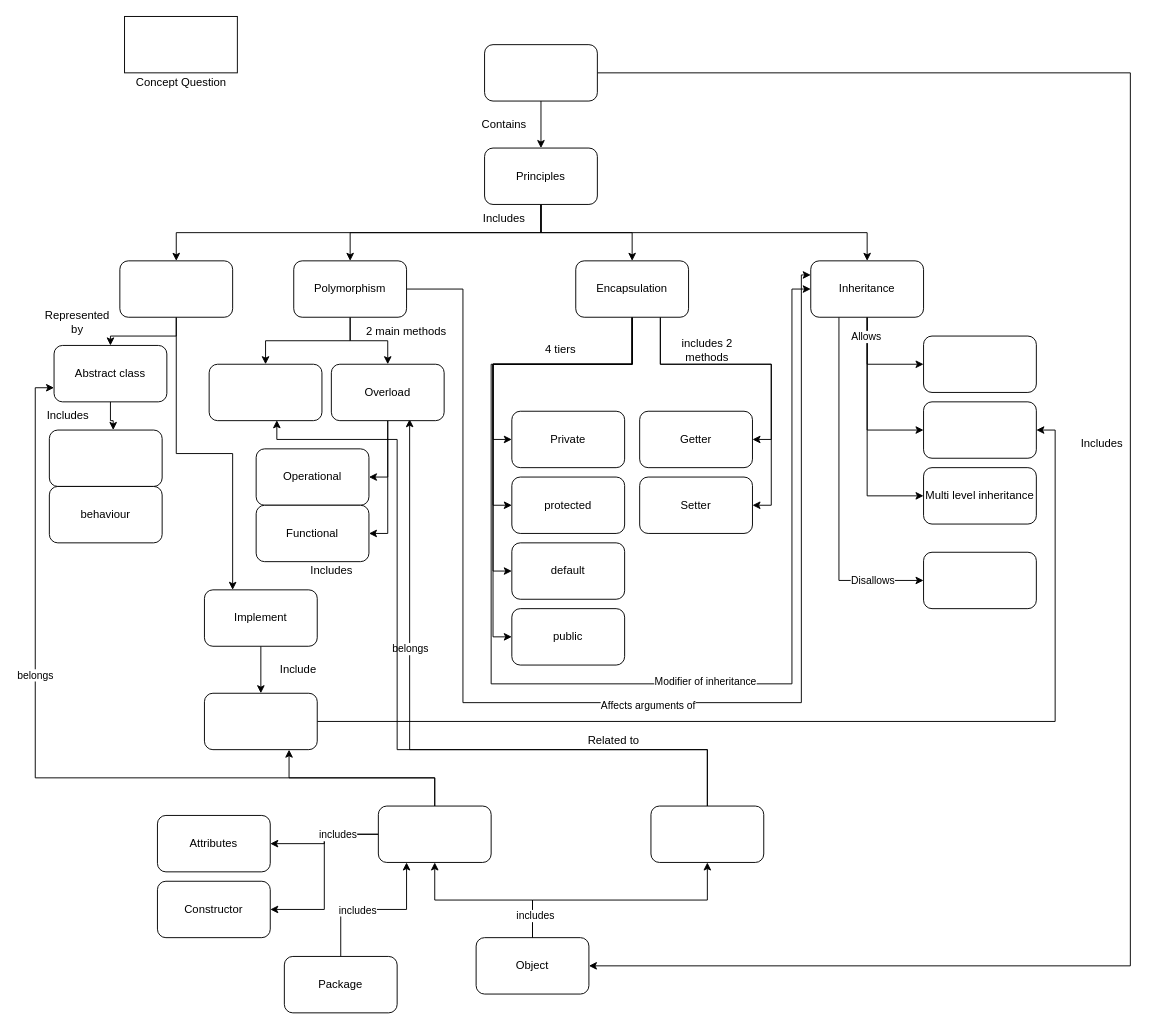
Some shapes in this 1154 by 1029 pixel diagram are drawn without their labels. Here are the shapes that lost their labels. From the top down, the centre of each, then its label:
At point 180,44: "What is Java OOP?".
At point 540,72: "Java OOP".
At point 176,288: "Abstraction".
At point 979,363: "Single inheritance".
At point 265,392: "Override".
At point 979,429: "Multiple inheritance".
At point 105,457: "attribute".
At point 979,580: "Hierarchical inheritance".
At point 260,721: "Interface".
At point 434,833: "Class".
At point 707,833: "method".
